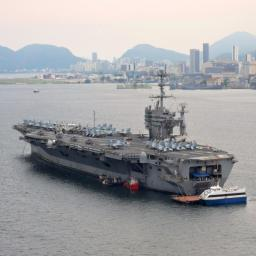Portanaves: (11, 63, 239, 201)
